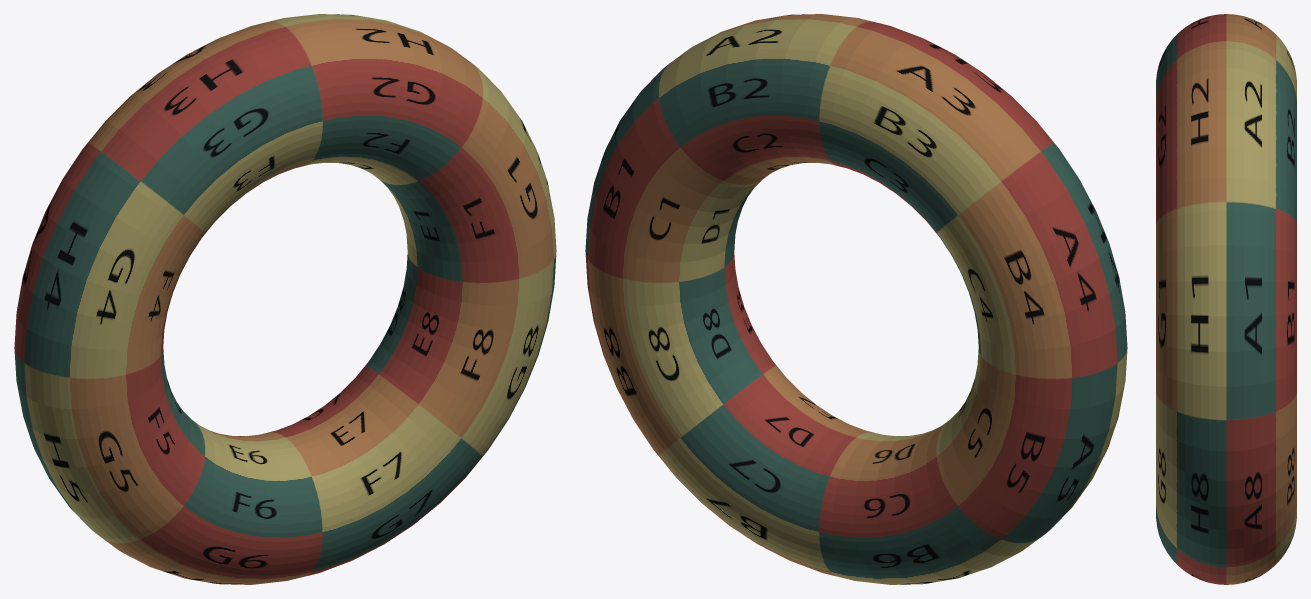
The model's file is texture_torus_R10_r13.glb.
3 renders of one model, left to right at view 1: azimuth 30°, elevation 25°; view 2: azimuth 150°, elevation 25°; view 3: azimuth 270°, elevation 25°, orthographic. The views are drawn at different scales.
Parts seen in each view (by area): view 1: world; view 2: world; view 3: world.
Boxes of the visible parts, left/top/right/bottom form: world: left=14, top=14, right=556, bottom=584; world: left=585, top=14, right=1127, bottom=584; world: left=1156, top=14, right=1296, bottom=584.
Bounding box in the file's own units: 22.13 × 22.09 × 5.46.
1 material, 1 textured.
